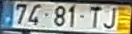1: (67, 4, 77, 29)
4: (26, 4, 39, 26)
7: (15, 3, 27, 25)
8: (53, 4, 66, 27)
J: (102, 6, 117, 30)
T: (89, 5, 102, 29)
